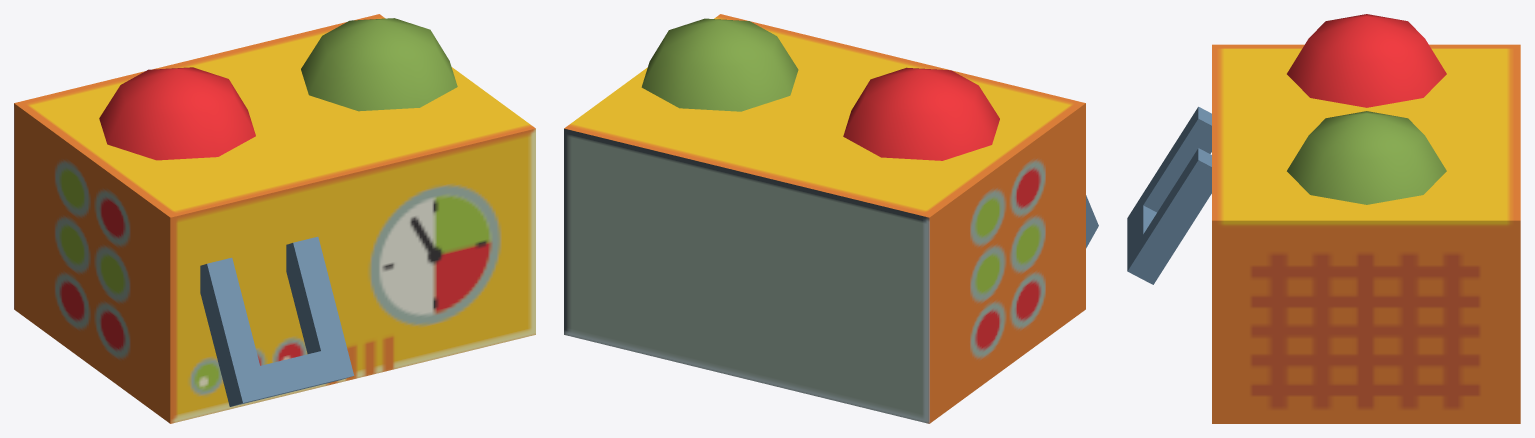
File: controle.FBX
The picture shows the model from 3 angles, left to right: view 1: azimuth 30°, elevation 25°; view 2: azimuth 150°, elevation 25°; view 3: azimuth 270°, elevation 25°; orthographic projection.
Parts seen in each view (by area): view 1: controle, controleAlavanca, controleOn, controleOff; view 2: controle, controleOff, controleOn; view 3: controle, controleOff, controleOn, controleAlavanca.
Boxes of the visible parts, x1,y1,x2,y2 form: controle: (14, 14, 535, 423); controleAlavanca: (200, 236, 354, 406); controleOn: (99, 67, 255, 160); controleOff: (301, 18, 457, 111); controle: (564, 14, 1085, 423); controleOff: (641, 18, 798, 111); controleOn: (843, 67, 999, 160); controle: (1212, 44, 1520, 423); controleOff: (1287, 111, 1446, 204); controleOn: (1287, 14, 1446, 107); controleAlavanca: (1127, 106, 1211, 284).
Bounding box in the file's own units: 70.08 × 50.63 × 66.18.
